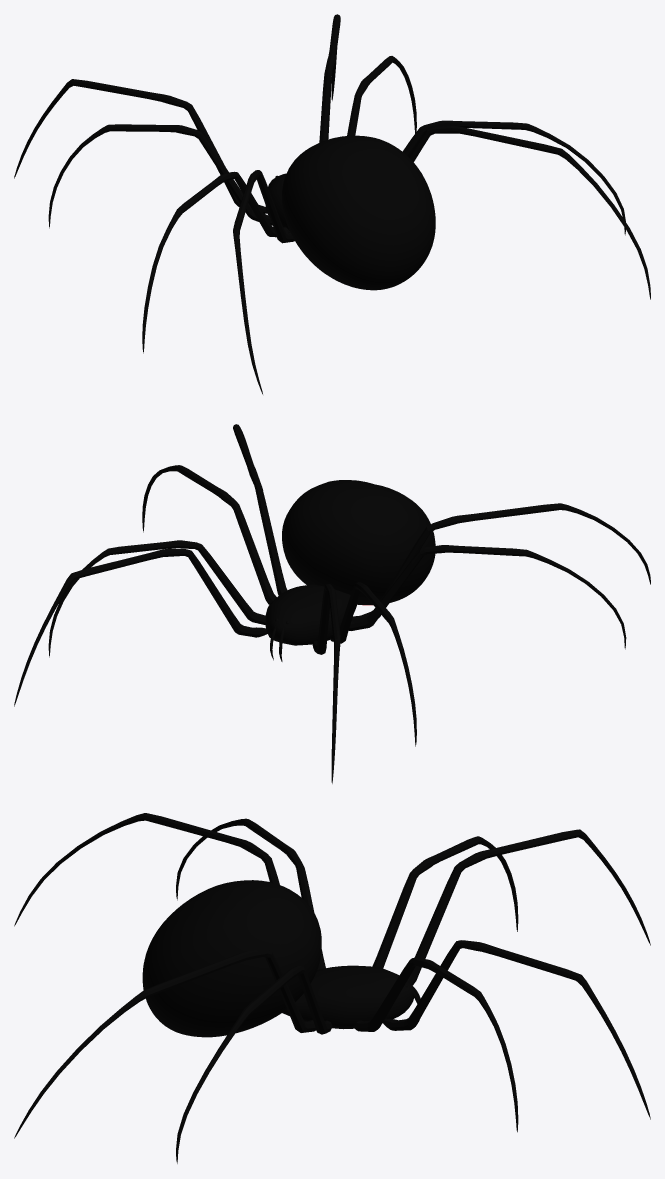
File: widow.obj
3 views of the same model, one above another, from view 1: azimuth 30°, elevation 25°; view 2: azimuth 150°, elevation 25°; view 3: azimuth 270°, elevation 25° (orthographic). The views are drawn at different scales.
Visible parts, largest first — view 1: Abdomen_Cube.001, Legs2_Cube.009, Legs4_Cube.011, Legs1_Cube.008, Legs3_Cube.010; view 2: Abdomen_Cube.001, Legs1_Cube.008, Legs4_Cube.011, Legs2_Cube.009, Legs3_Cube.010, Cephalotorax_Cube; view 3: Abdomen_Cube.001, Legs1_Cube.008, Legs2_Cube.009, Cephalotorax_Cube, Legs3_Cube.010, Legs4_Cube.011.
Boxes of the visible parts, <box> form: Abdomen_Cube.001: <box>282,135,435,290</box>; Legs2_Cube.009: <box>233,125,650,394</box>; Legs4_Cube.011: <box>142,120,625,353</box>; Legs1_Cube.008: <box>14,14,340,213</box>; Legs3_Cube.010: <box>48,56,416,228</box>; Abdomen_Cube.001: <box>282,480,435,605</box>; Legs1_Cube.008: <box>14,548,340,783</box>; Legs4_Cube.011: <box>142,465,626,649</box>; Legs2_Cube.009: <box>233,424,650,621</box>; Legs3_Cube.010: <box>48,540,416,746</box>; Cephalotorax_Cube: <box>265,584,358,645</box>; Abdomen_Cube.001: <box>142,880,321,1037</box>; Legs1_Cube.008: <box>383,829,650,1119</box>; Legs2_Cube.009: <box>14,813,315,1138</box>; Cephalotorax_Cube: <box>282,965,414,1029</box>; Legs3_Cube.010: <box>353,836,518,1132</box>; Legs4_Cube.011: <box>176,818,332,1163</box>.
Bounding box in the file's own units: 2.56 × 0.6423 × 2.61.
5 materials, 1 textured.
